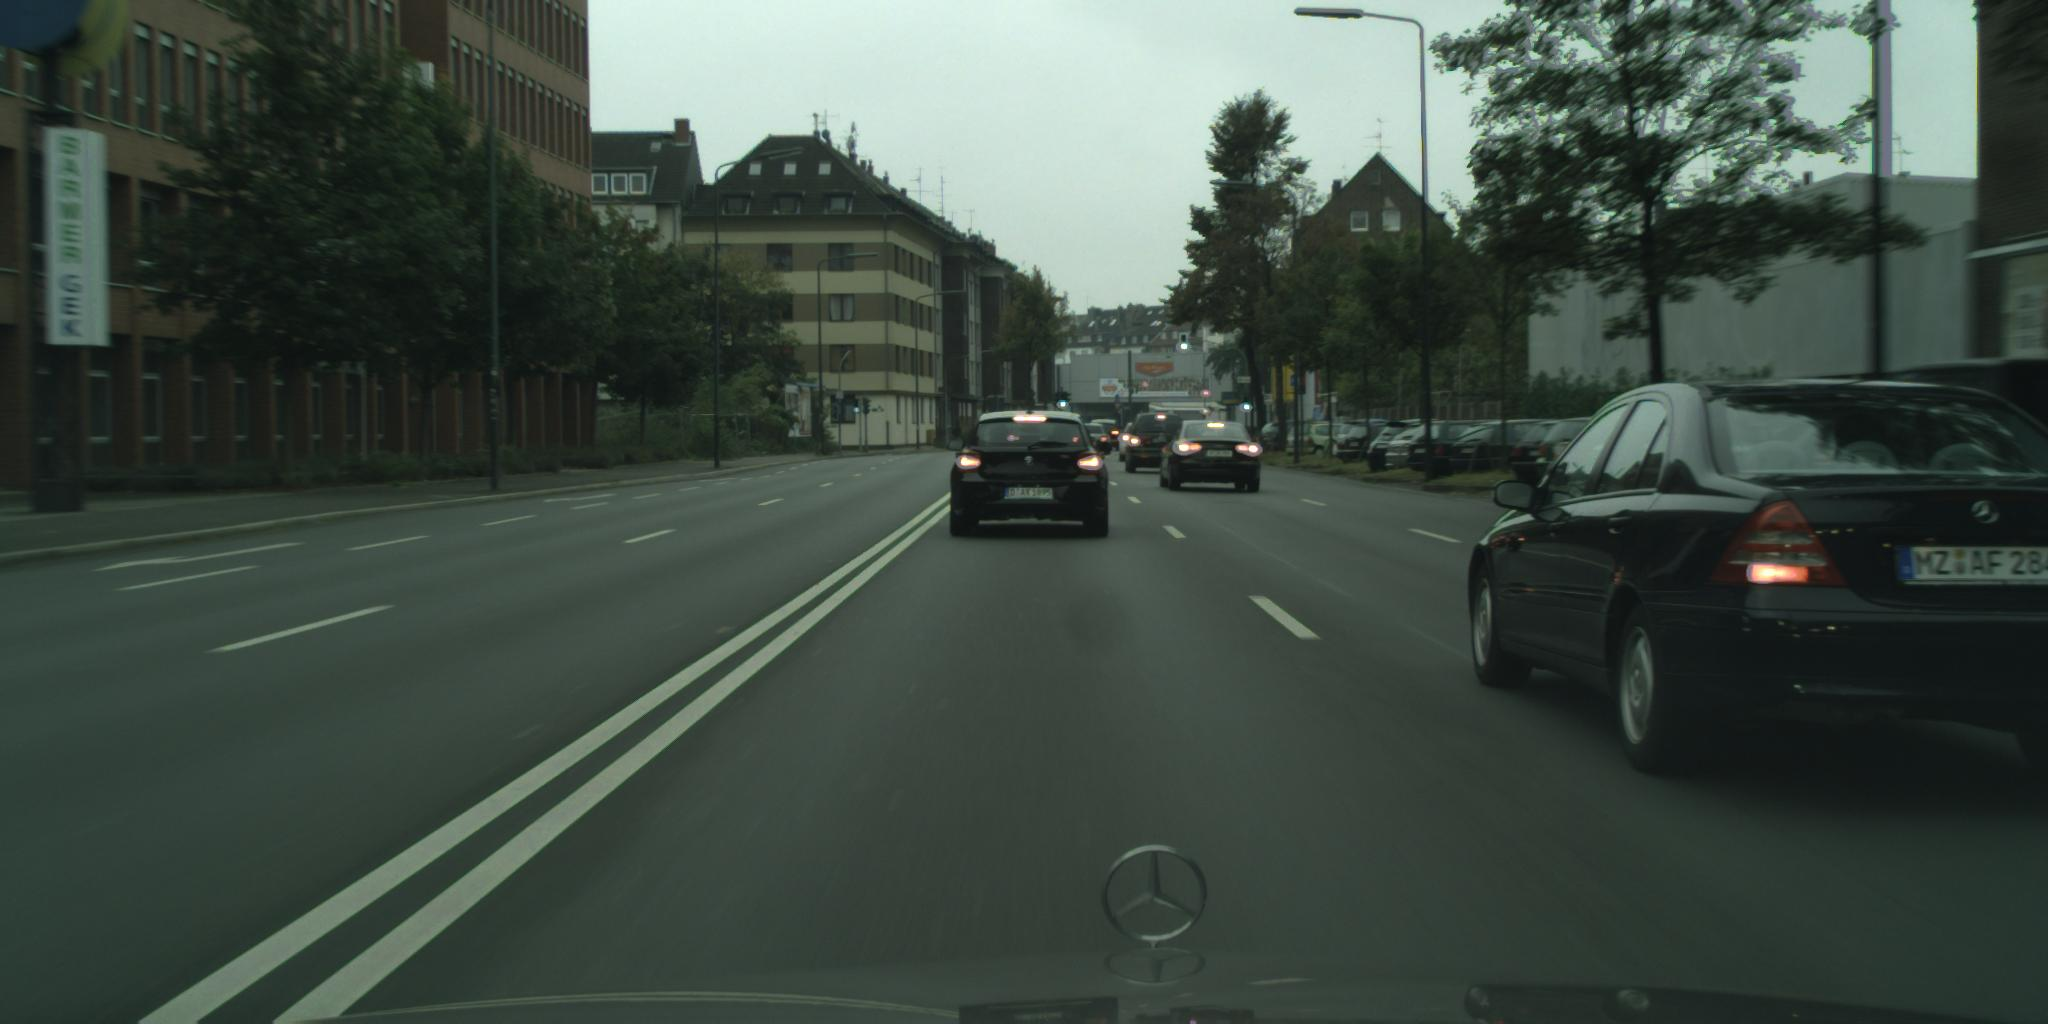car: (1468, 379, 2048, 801), (950, 410, 1113, 539), (1159, 421, 1263, 492), (1126, 411, 1187, 475), (1080, 421, 1148, 462)
